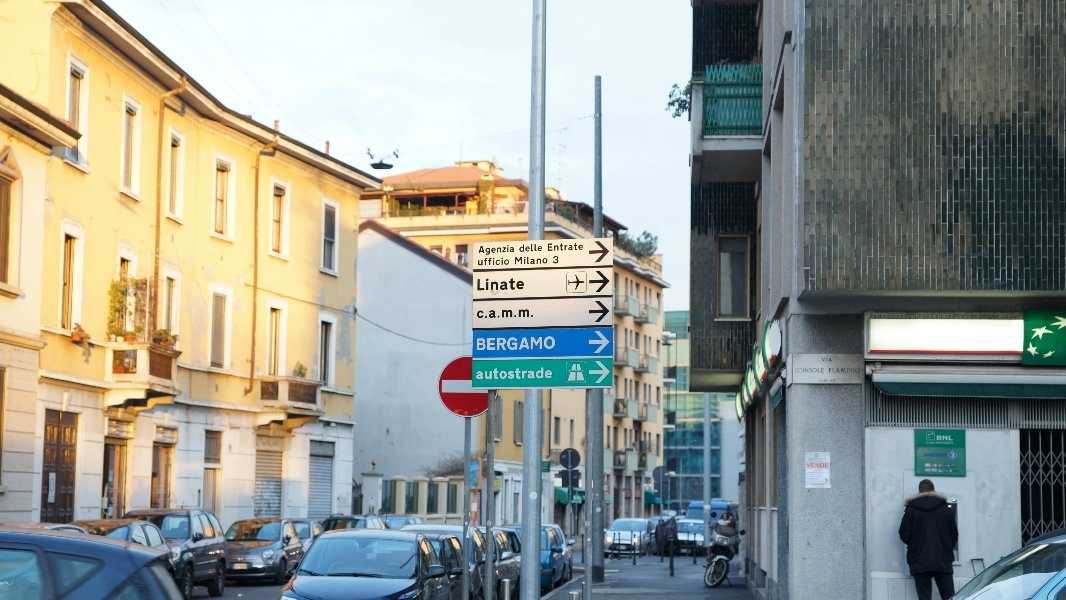text: (481, 335, 496, 352), (497, 335, 512, 352), (513, 335, 528, 352), (529, 335, 544, 352), (545, 335, 559, 352), (481, 277, 496, 292), (497, 277, 512, 292), (481, 367, 496, 381), (497, 367, 512, 381), (513, 367, 528, 381), (529, 367, 544, 381), (481, 244, 496, 257), (497, 244, 512, 257), (513, 277, 525, 292), (529, 255, 544, 266), (481, 308, 496, 319), (497, 308, 512, 319), (513, 308, 528, 319), (529, 243, 544, 253), (561, 243, 576, 253), (481, 257, 496, 267), (515, 255, 528, 266), (497, 257, 511, 267), (545, 367, 554, 381), (548, 243, 560, 253), (801, 367, 816, 375), (833, 367, 848, 374), (929, 452, 944, 459), (817, 461, 830, 469), (518, 243, 528, 253), (577, 243, 586, 253), (849, 367, 861, 374), (945, 434, 955, 442), (950, 451, 960, 459), (806, 461, 816, 469), (553, 255, 560, 265), (476, 335, 480, 352), (821, 357, 832, 363), (817, 367, 825, 375), (937, 434, 944, 442), (818, 379, 832, 383), (529, 308, 534, 319), (794, 367, 800, 375), (477, 277, 480, 292), (477, 367, 480, 381), (923, 452, 928, 459), (545, 255, 548, 266), (477, 308, 480, 319), (817, 458, 828, 461), (945, 452, 949, 459), (513, 244, 515, 257), (808, 458, 816, 461), (829, 367, 832, 374), (478, 257, 480, 267), (833, 379, 836, 383)
